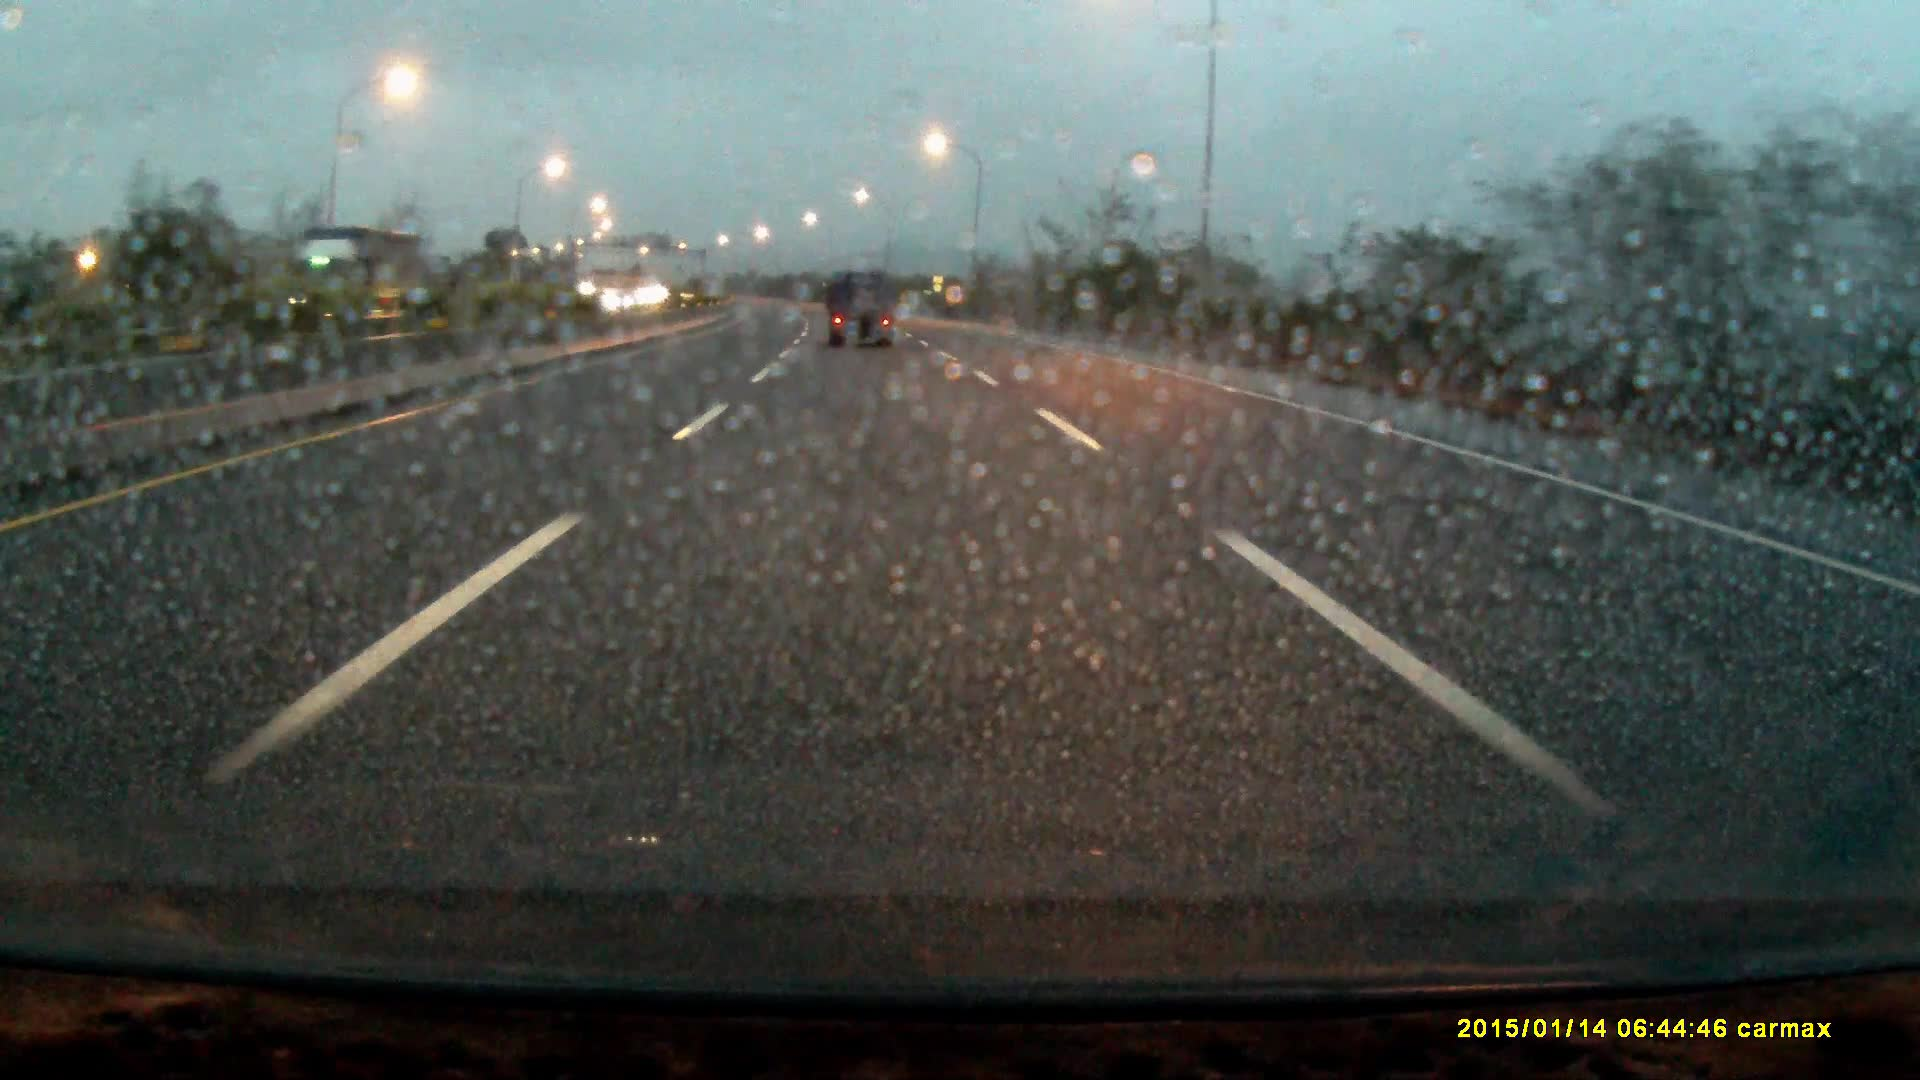vehicle: (265, 227, 423, 342), (827, 276, 899, 349), (605, 290, 649, 313)
